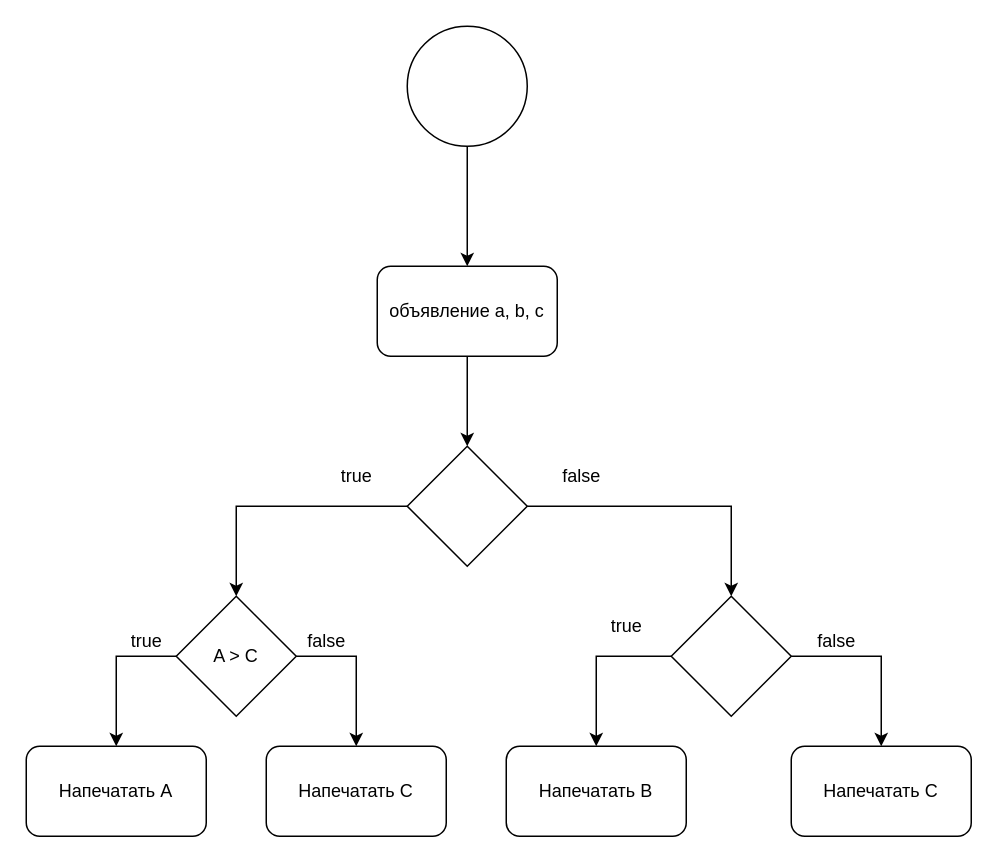
The diagram is 998 pixels wide and 863 high, and some of its shapes have lost their labels. The shapes that lost their labels are listed below. From the top down, each one's box as (x1, y1, x2, y2) in pixels, then its label:
(406, 25, 527, 146): начало
(406, 445, 527, 566): A > B
(670, 595, 791, 716): B > C
